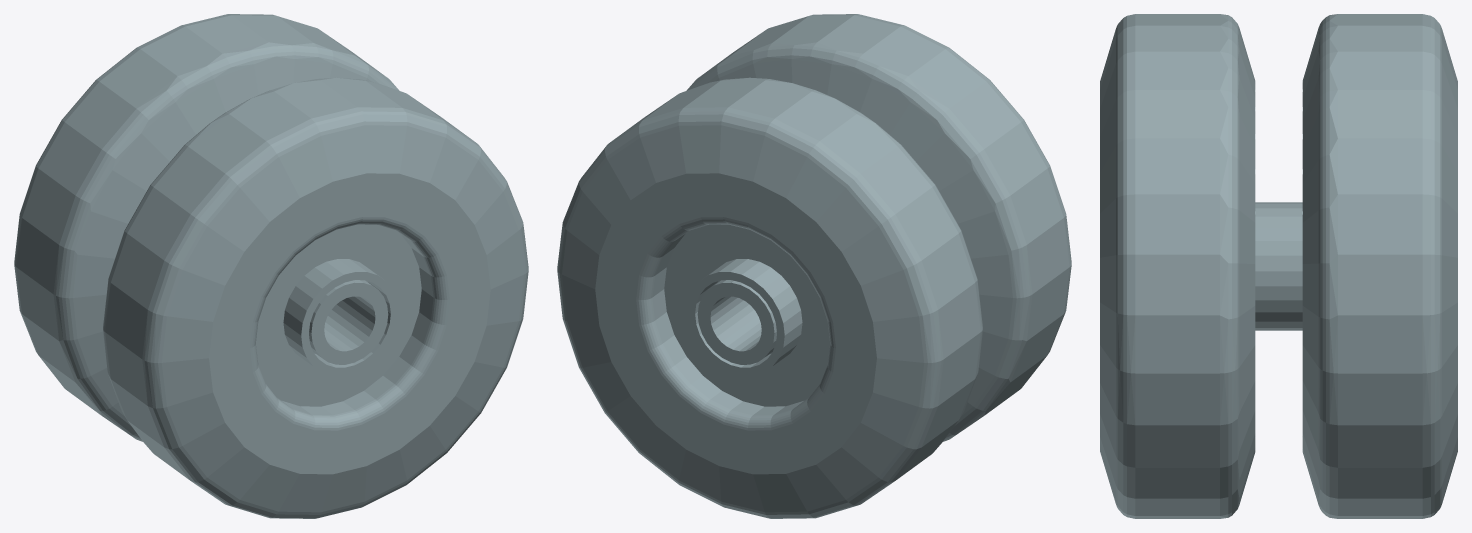
File: castor.obj
The picture shows the model from 3 angles, left to right: view 1: azimuth 30°, elevation 25°; view 2: azimuth 150°, elevation 25°; view 3: azimuth 270°, elevation 25°; orthographic projection. The views are drawn at different scales.
Visible parts, largest first — view 1: geometry0; view 2: geometry0; view 3: geometry0.
Boxes of the visible parts, x1=… form: geometry0: x1=14, y1=14, x2=528, y2=518; geometry0: x1=557, y1=14, x2=1071, y2=518; geometry0: x1=1100, y1=14, x2=1457, y2=518.
Size of the model in its own units: 0.075 by 0.0745 by 0.053.
